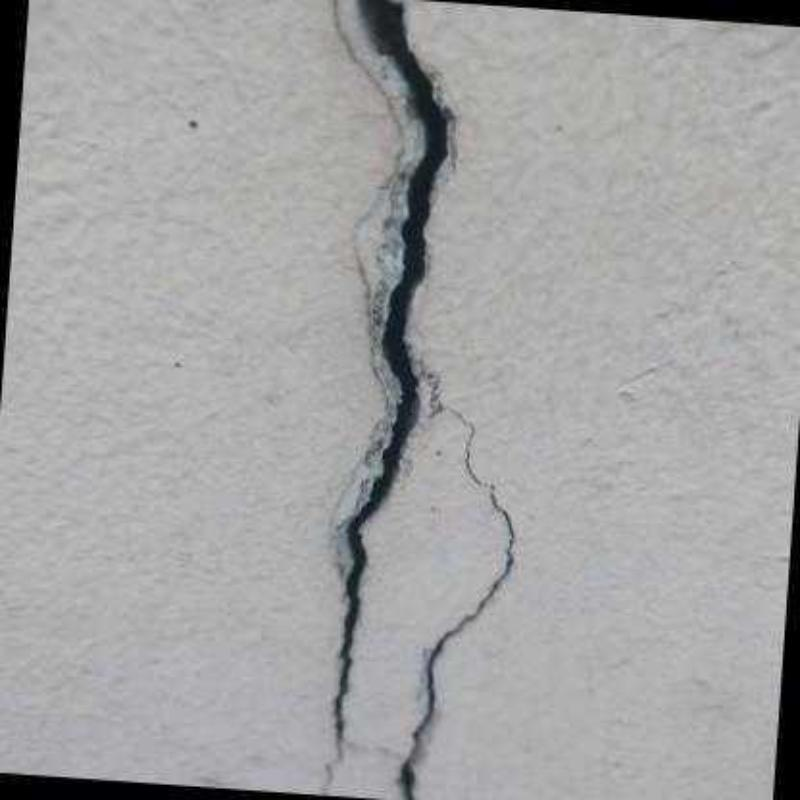pothole: (319, 0, 456, 798), (394, 405, 521, 798)
